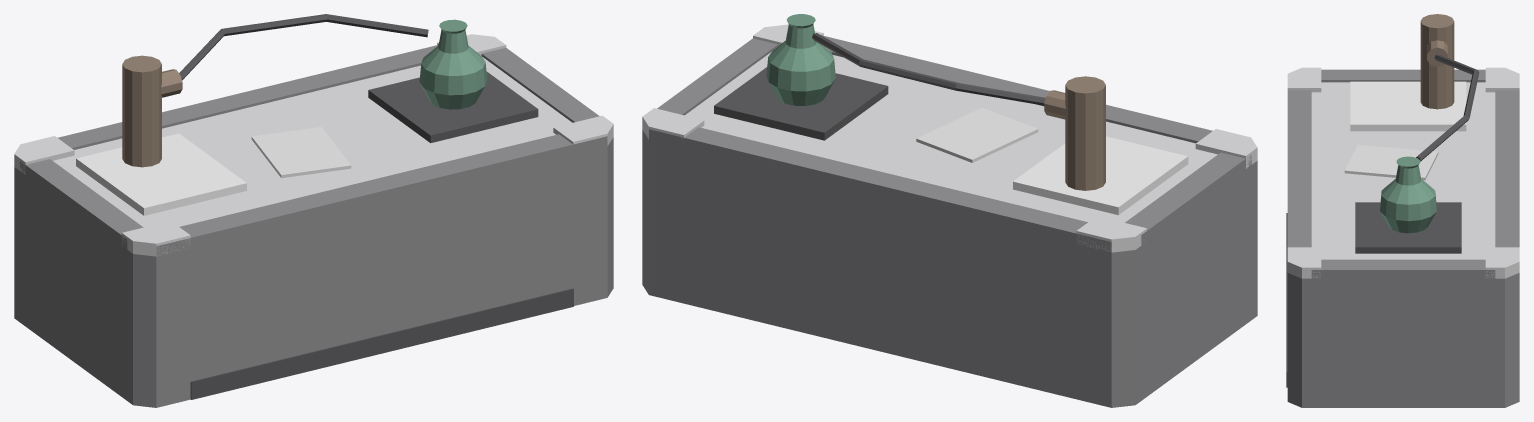
The model's file is vge_compact_drug_lab.obj.
3 views of the same model, side by side, from view 1: azimuth 30°, elevation 25°; view 2: azimuth 150°, elevation 25°; view 3: azimuth 270°, elevation 25° (orthographic). The views are drawn at different scales.
Visible parts, largest first — view 1: vge_compact_drug_lab_0, vge_compact_drug_lab_1, vge_compact_drug_lab_2, vge_compact_drug_lab_10, vge_compact_drug_lab_11, vge_compact_drug_lab_14, vge_compact_drug_lab_3, vge_compact_drug_lab_12, vge_compact_drug_lab_15, vge_compact_drug_lab_4, vge_compact_drug_lab_17, vge_compact_drug_lab_5 (+5 smaller); view 2: vge_compact_drug_lab_0, vge_compact_drug_lab_1, vge_compact_drug_lab_3, vge_compact_drug_lab_11, vge_compact_drug_lab_14, vge_compact_drug_lab_2, vge_compact_drug_lab_12, vge_compact_drug_lab_15, vge_compact_drug_lab_17, vge_compact_drug_lab_4, vge_compact_drug_lab_5, vge_compact_drug_lab_16 (+4 smaller); view 3: vge_compact_drug_lab_0, vge_compact_drug_lab_1, vge_compact_drug_lab_11, vge_compact_drug_lab_14, vge_compact_drug_lab_3, vge_compact_drug_lab_2, vge_compact_drug_lab_5, vge_compact_drug_lab_15, vge_compact_drug_lab_12, vge_compact_drug_lab_17, vge_compact_drug_lab_4, vge_compact_drug_lab_16 (+6 smaller).
Boxes of the visible parts, box(x1,y1,x2,y2) form: vge_compact_drug_lab_0: box(14, 137, 613, 407); vge_compact_drug_lab_1: box(53, 57, 572, 227); vge_compact_drug_lab_2: box(156, 134, 607, 256); vge_compact_drug_lab_10: box(190, 288, 573, 399); vge_compact_drug_lab_11: box(76, 133, 246, 215); vge_compact_drug_lab_14: box(368, 71, 538, 143); vge_compact_drug_lab_3: box(57, 45, 437, 149); vge_compact_drug_lab_12: box(122, 55, 161, 167); vge_compact_drug_lab_15: box(419, 19, 487, 109); vge_compact_drug_lab_4: box(20, 159, 143, 249); vge_compact_drug_lab_17: box(251, 127, 351, 177); vge_compact_drug_lab_5: box(481, 47, 599, 122); vge_compact_drug_lab_0: box(642, 130, 1257, 407); vge_compact_drug_lab_1: box(685, 52, 1217, 222); vge_compact_drug_lab_3: box(649, 127, 1111, 252); vge_compact_drug_lab_11: box(1013, 136, 1188, 215); vge_compact_drug_lab_14: box(714, 67, 888, 140); vge_compact_drug_lab_2: box(823, 36, 1212, 143); vge_compact_drug_lab_12: box(1065, 76, 1105, 190); vge_compact_drug_lab_15: box(766, 14, 835, 105); vge_compact_drug_lab_17: box(916, 107, 1038, 162); vge_compact_drug_lab_4: box(1125, 152, 1251, 245); vge_compact_drug_lab_5: box(657, 38, 777, 115); vge_compact_drug_lab_16: box(812, 33, 1045, 105); vge_compact_drug_lab_0: box(1287, 272, 1519, 407); vge_compact_drug_lab_1: box(1311, 82, 1495, 259); vge_compact_drug_lab_11: box(1350, 81, 1466, 131); vge_compact_drug_lab_14: box(1355, 202, 1461, 253); vge_compact_drug_lab_3: box(1495, 90, 1519, 247); vge_compact_drug_lab_2: box(1287, 90, 1311, 247); vge_compact_drug_lab_5: box(1311, 259, 1495, 278); vge_compact_drug_lab_15: box(1380, 156, 1436, 233); vge_compact_drug_lab_12: box(1420, 14, 1454, 109); vge_compact_drug_lab_17: box(1344, 144, 1438, 180); vge_compact_drug_lab_4: box(1321, 69, 1485, 82); vge_compact_drug_lab_16: box(1416, 54, 1479, 161).
Size of the model in its own units: 1.96 by 1.02 by 0.965.
